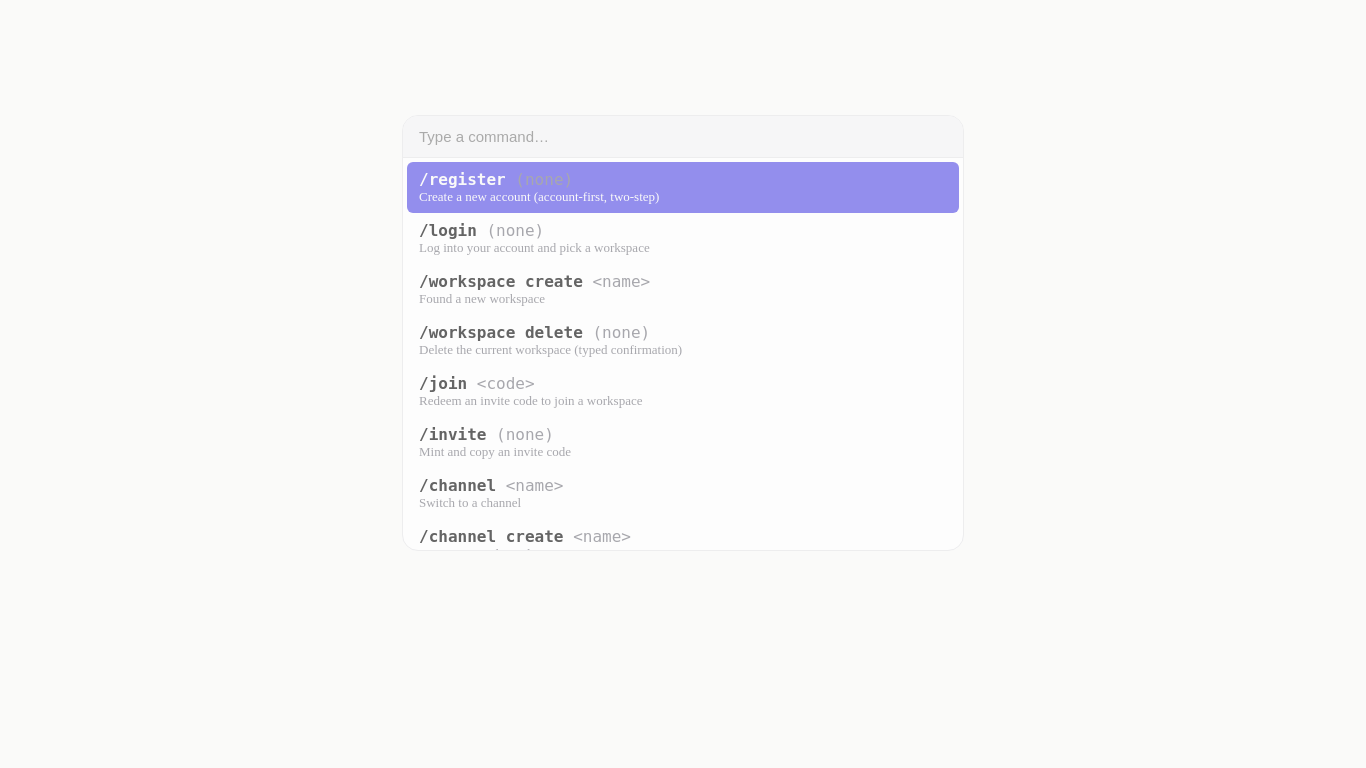
Palette (Cmd-K, web spec §2) › filters as the user types in the palette's own input
Type "whoami" into the field named "Command palette".
click(683, 137); type("whoami")  # box [403,116,963,158]
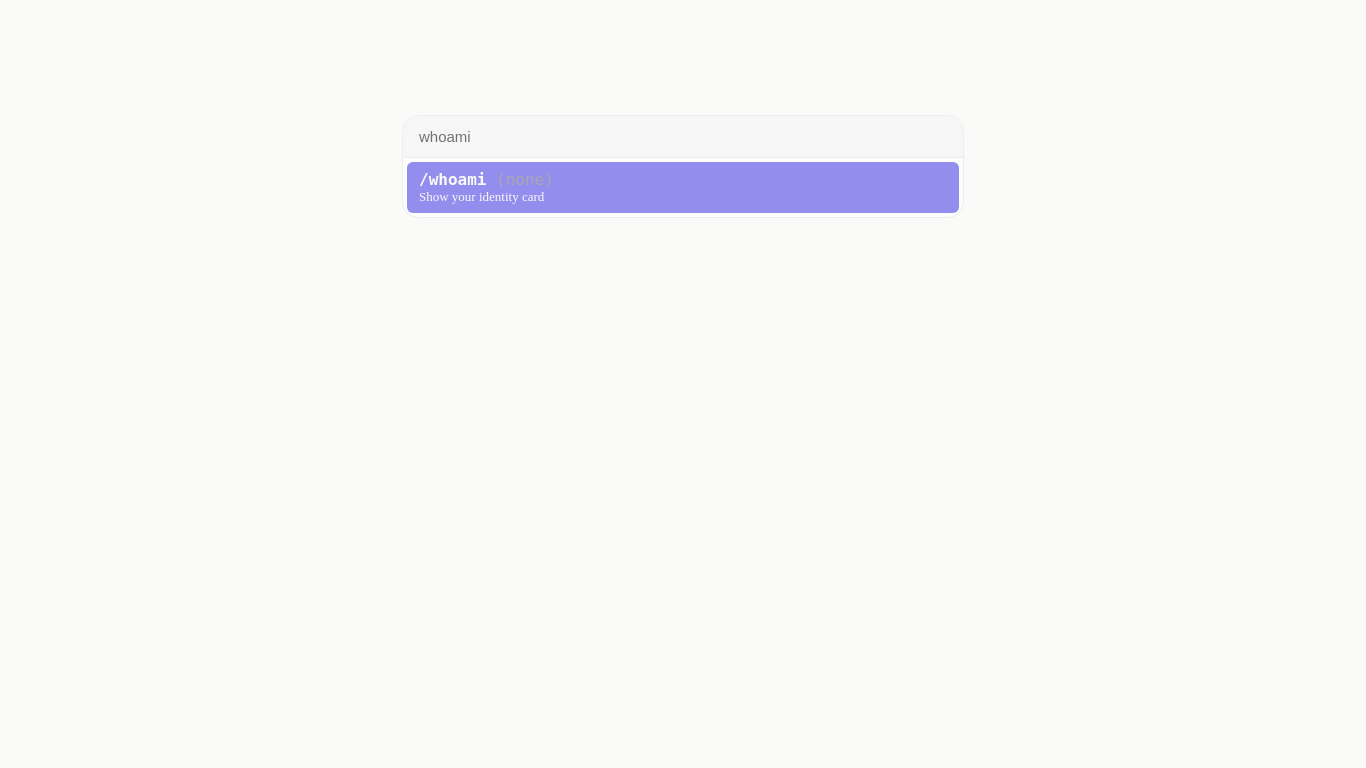
Expected: the text "/quit" is not shown
Expected: the text "/whoami" is shown, [419,170,486,189]
